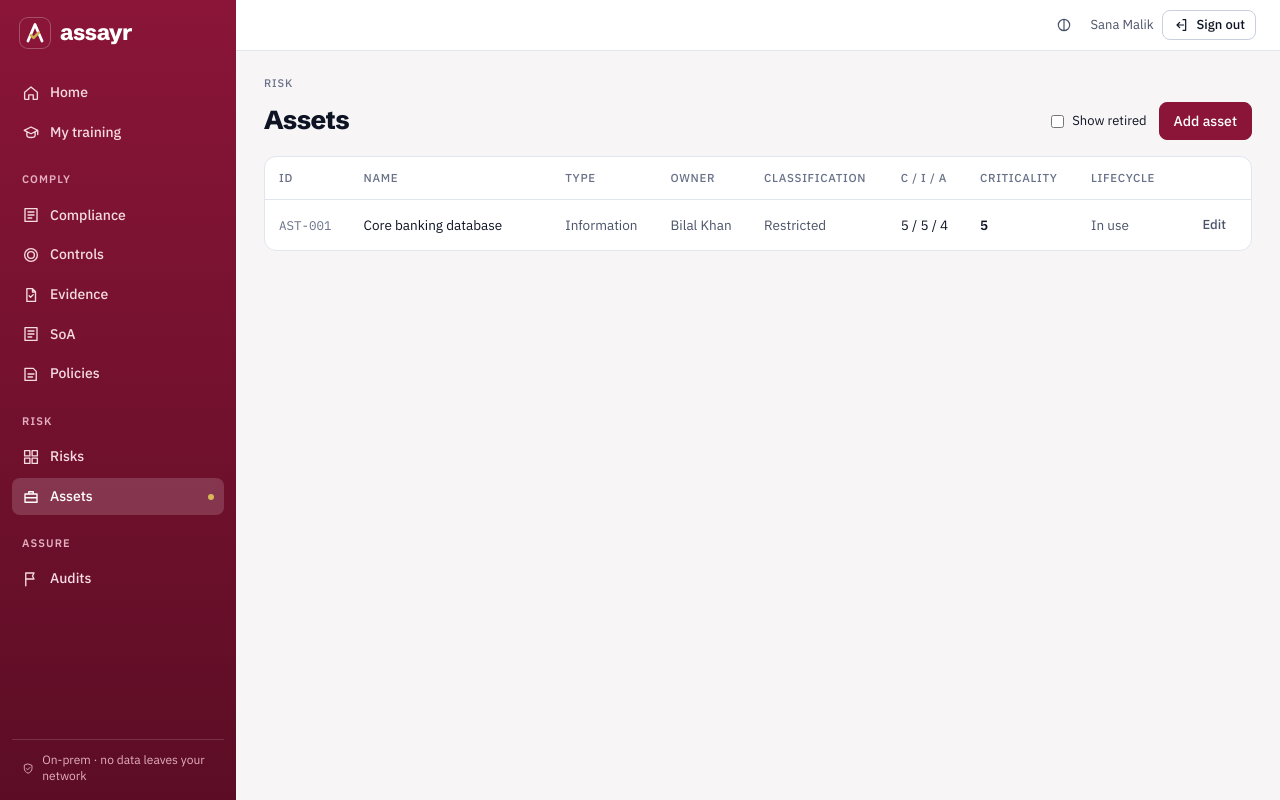
an asset is retired from the edit form
Step 1. Click the button with aria-label "Edit AST-001" → click(1214, 225), box [1192,210,1237,240]
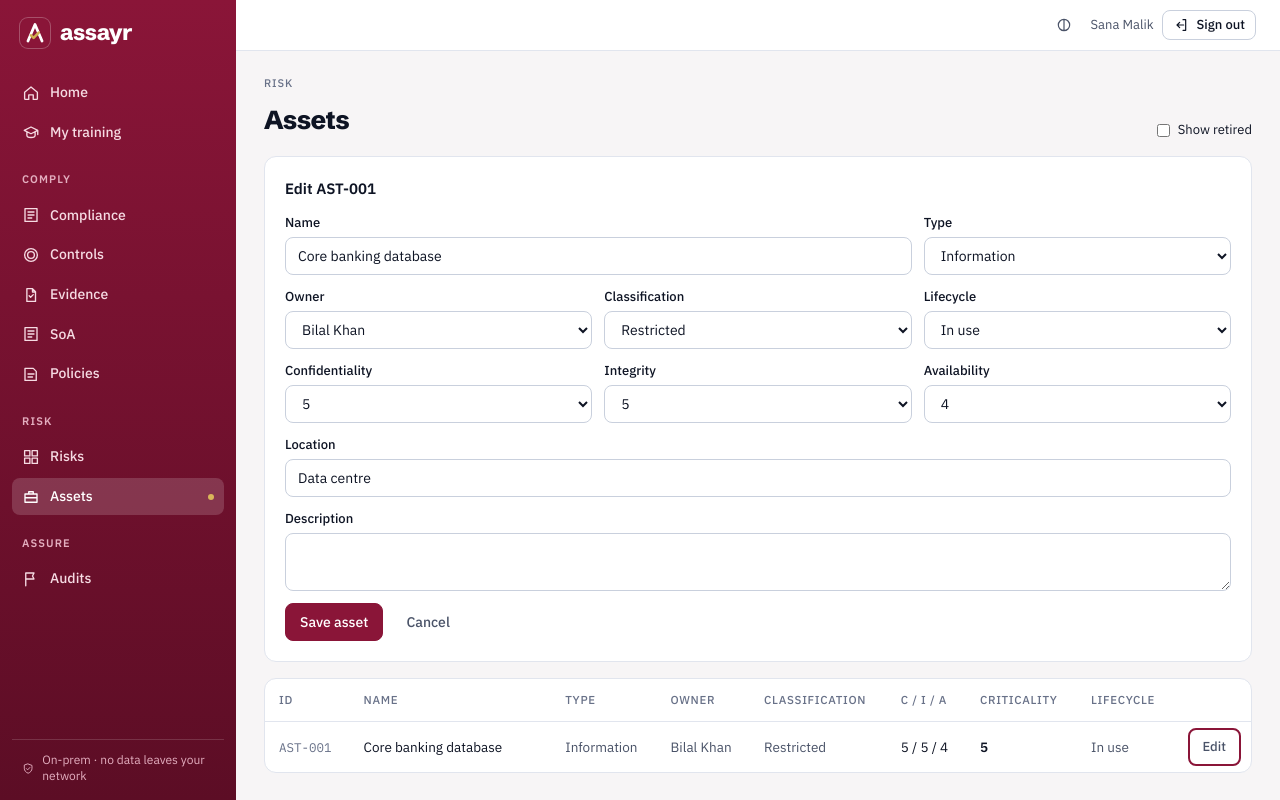
Now the field labelled "Name" holds "Core banking database", box [285,237,912,275]
Step 2. Select "Retired" in the dropdown labelled "Lifecycle" → (1077, 330), box [924,311,1231,349]
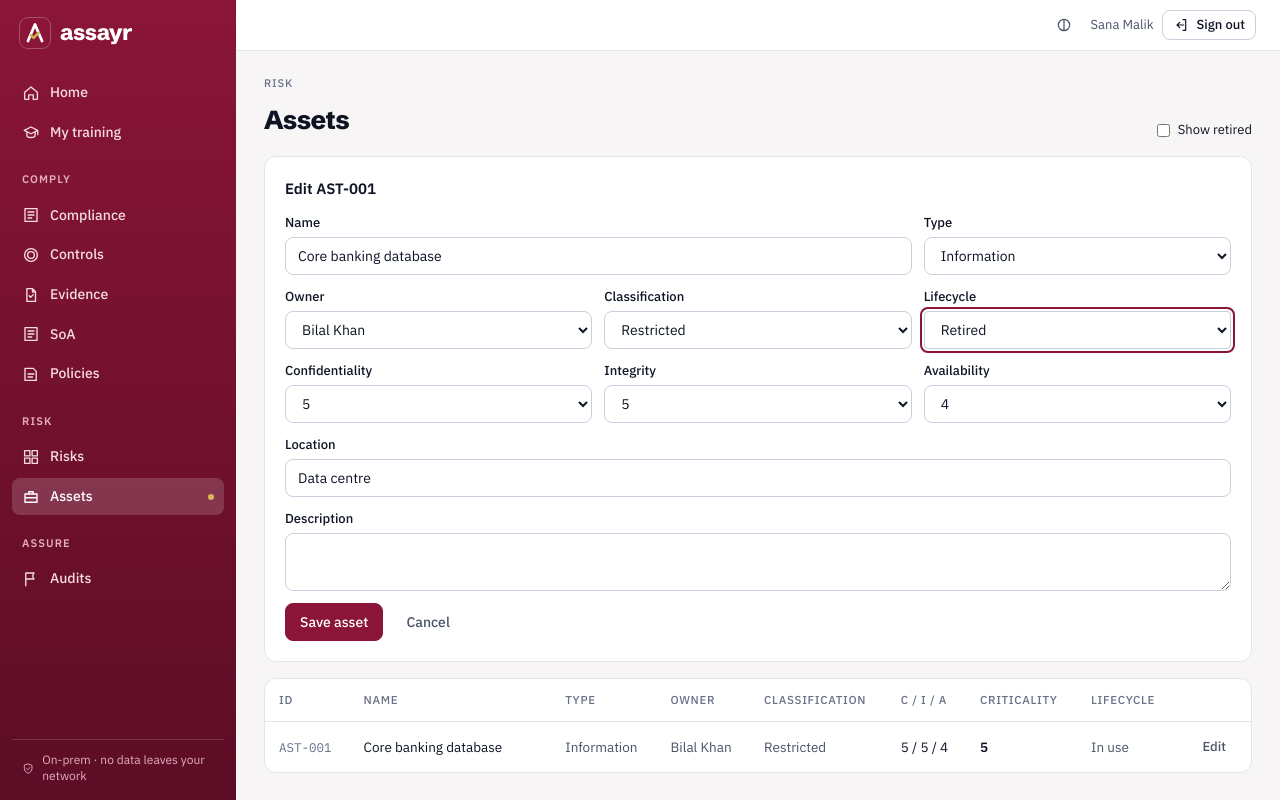
Step 3. Click the button "Save asset" → click(334, 622), box [285,603,383,641]
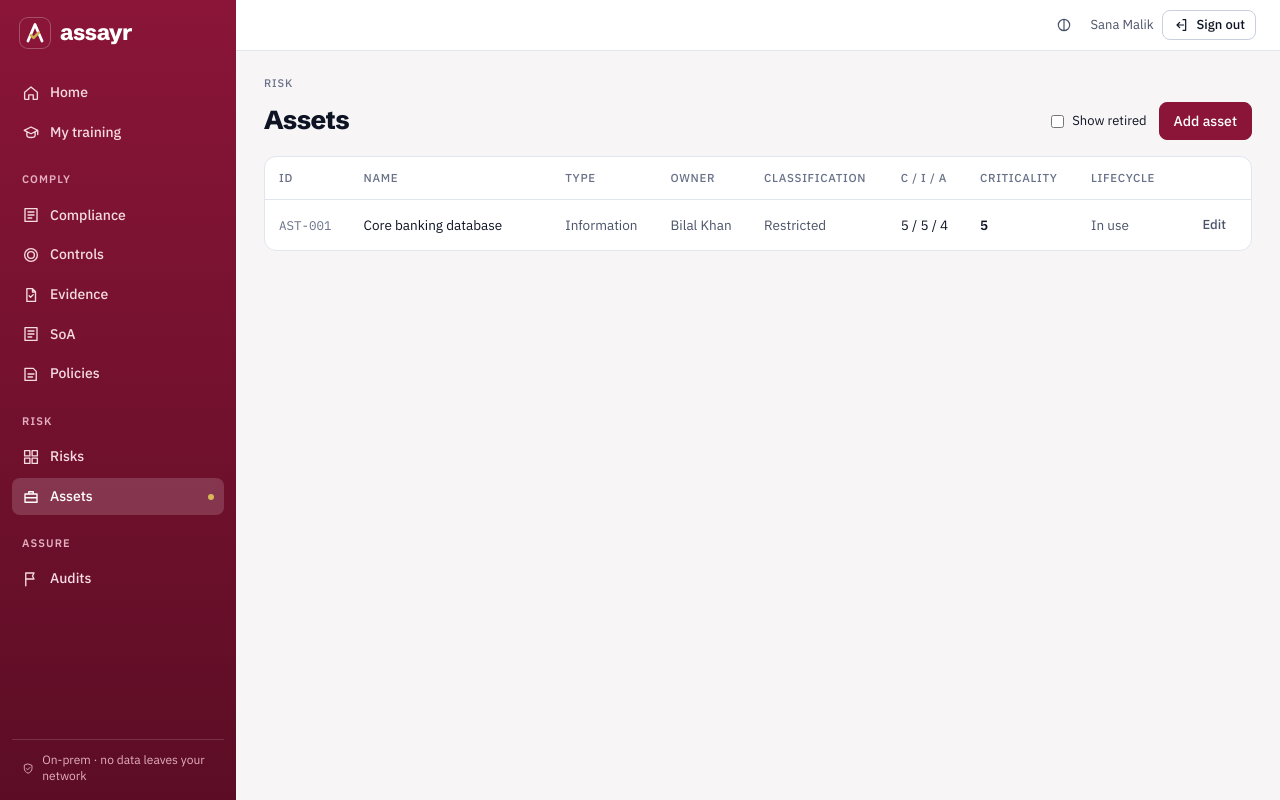
Now the button "Add asset" is shown, box [1159,102,1252,140]
